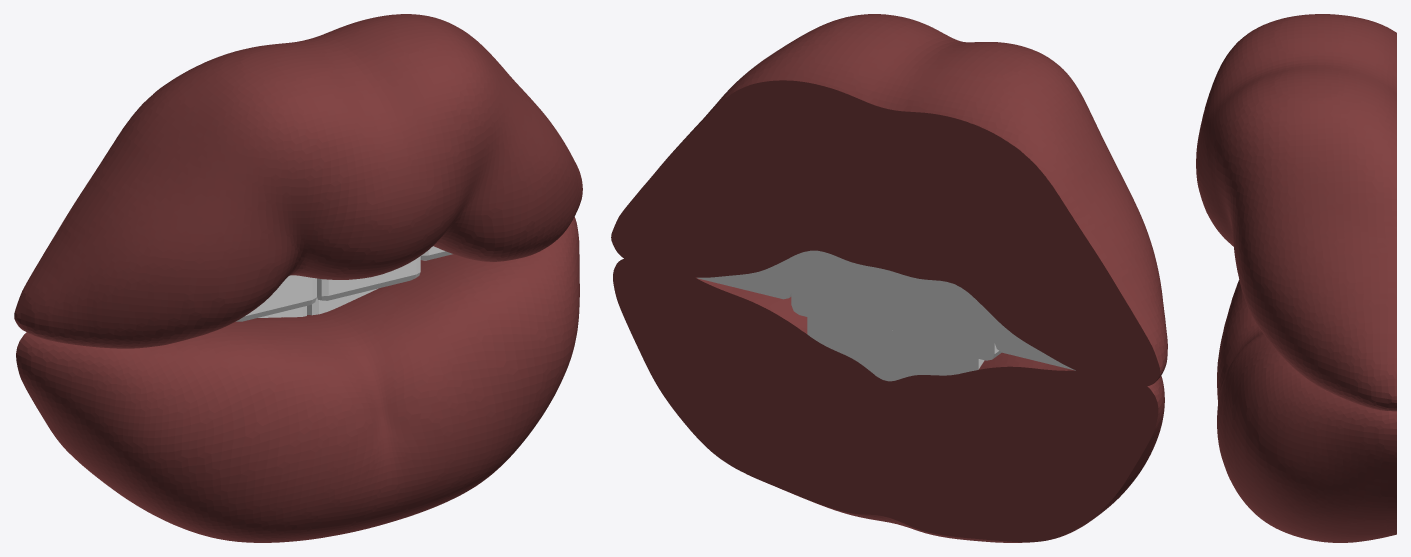
The model's file is lip.all.glb.
3 views of the same model, side by side, from view 1: azimuth 30°, elevation 25°; view 2: azimuth 150°, elevation 25°; view 3: azimuth 270°, elevation 25° (orthographic). The views are drawn at different scales.
Visible parts, largest first — view 1: lip.002, lip.003, Cube.655, Cube.654; view 2: lip.002, lip.003, Cube.655, Cube.654, Cube.651, Cube.650, Cube.653, Cube.652; view 3: lip.002, lip.003.
Part boxes in pixels (x1,y1,x2,y2): lip.002: [14, 14, 582, 348]; lip.003: [16, 217, 579, 542]; Cube.655: [316, 256, 420, 300]; Cube.654: [236, 275, 316, 321]; lip.002: [611, 14, 1167, 387]; lip.003: [613, 259, 1164, 542]; Cube.655: [791, 250, 892, 335]; Cube.654: [893, 271, 1001, 360]; Cube.651: [807, 317, 892, 381]; Cube.650: [893, 330, 984, 380]; Cube.653: [697, 257, 791, 299]; Cube.652: [994, 318, 1075, 370]; lip.002: [1196, 14, 1396, 411]; lip.003: [1217, 280, 1396, 542].
Bounding box in the file's own units: 13.73 × 11.2 × 4.57.
